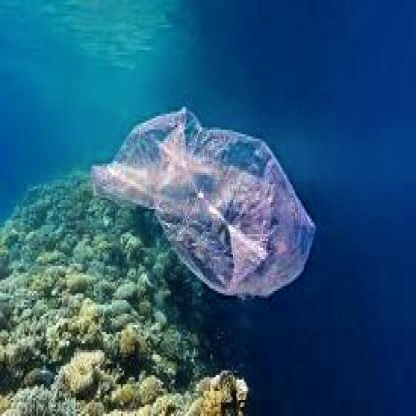pbag: (87, 104, 318, 302)
